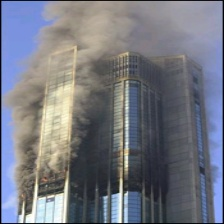smoke: (11, 3, 187, 183)
